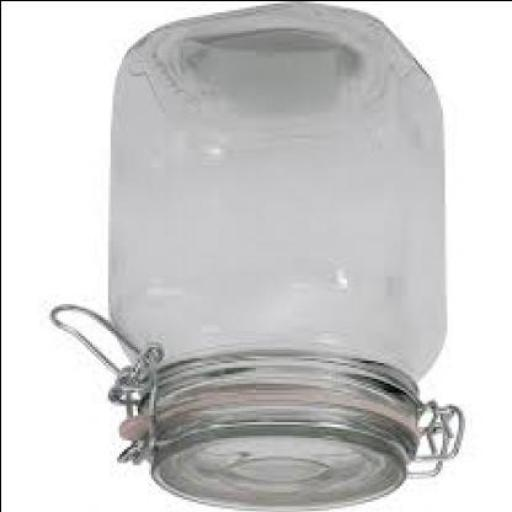glass: (102, 2, 443, 511)
metal: (48, 306, 160, 418), (406, 405, 460, 482)
